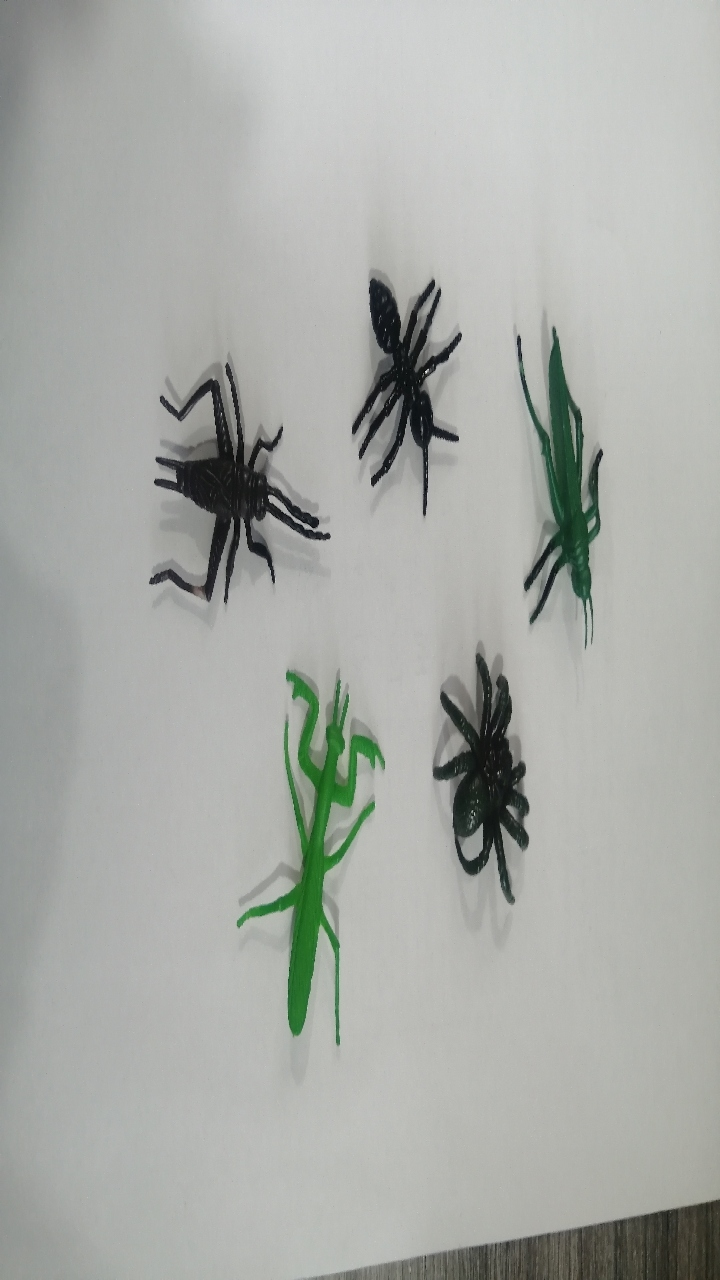intruso: (208, 642, 406, 1072), (88, 320, 343, 639), (486, 274, 628, 657), (406, 606, 574, 917), (326, 234, 484, 540)
